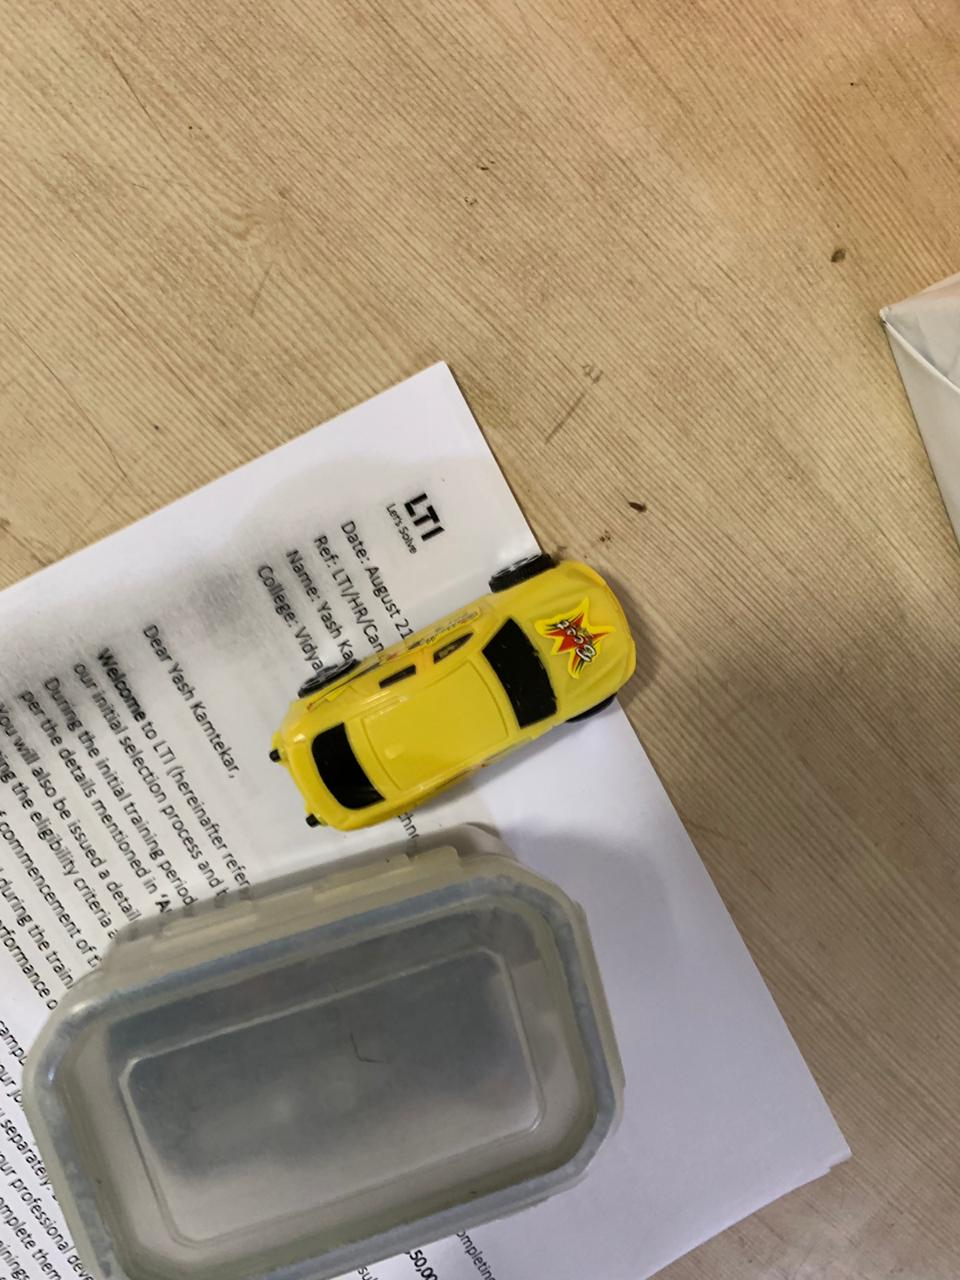car: (241, 541, 640, 834)
